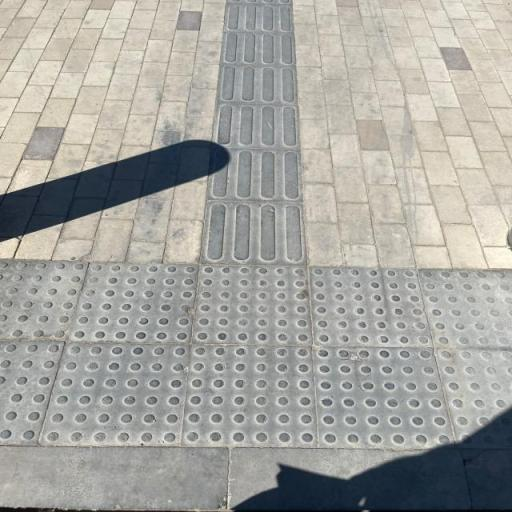dot: (38, 343, 190, 445), (311, 346, 456, 445), (184, 345, 318, 446), (66, 264, 202, 345), (311, 268, 434, 349), (192, 264, 312, 344), (433, 349, 511, 448), (418, 269, 511, 350), (0, 260, 88, 344), (0, 340, 67, 448)
line: (198, 202, 306, 265), (206, 148, 302, 202), (211, 103, 302, 150), (216, 64, 298, 103), (220, 31, 295, 65), (225, 3, 294, 32)
